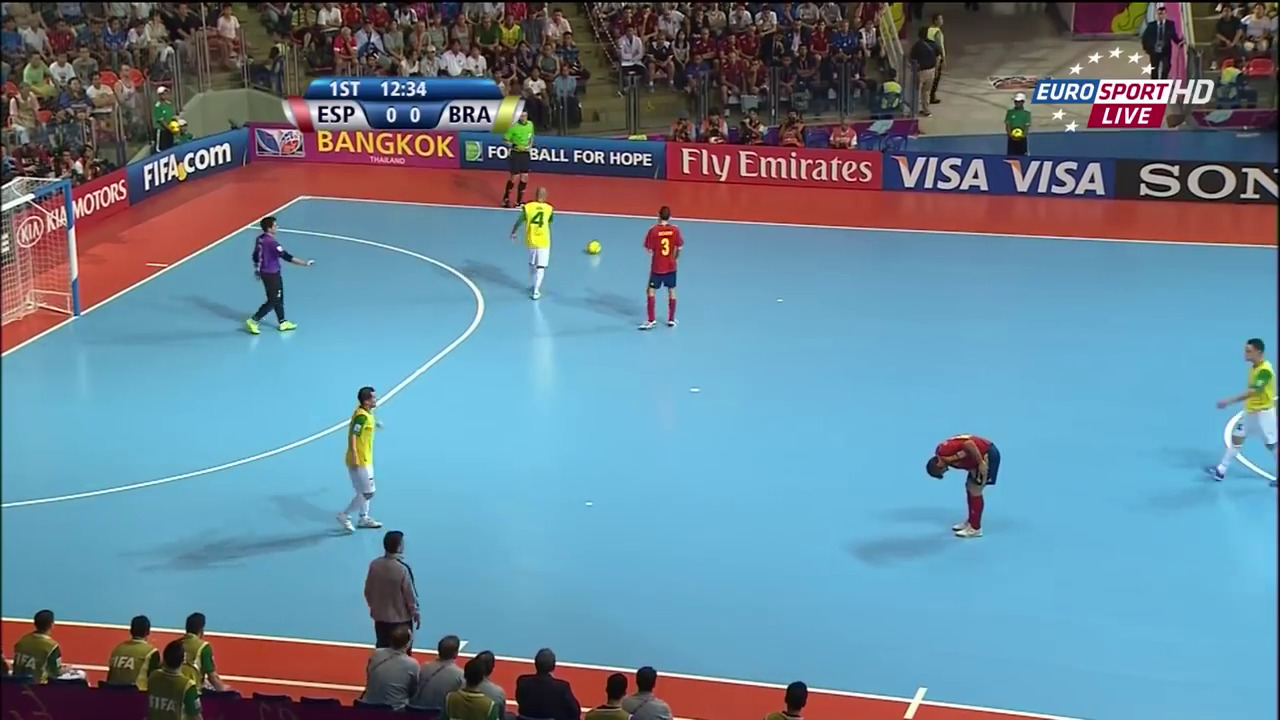ball: (581, 235, 603, 258), (1010, 127, 1022, 144)
person: (1207, 329, 1280, 481), (240, 206, 313, 338), (922, 424, 1000, 545), (333, 383, 388, 538), (509, 184, 554, 307), (643, 204, 685, 325)
